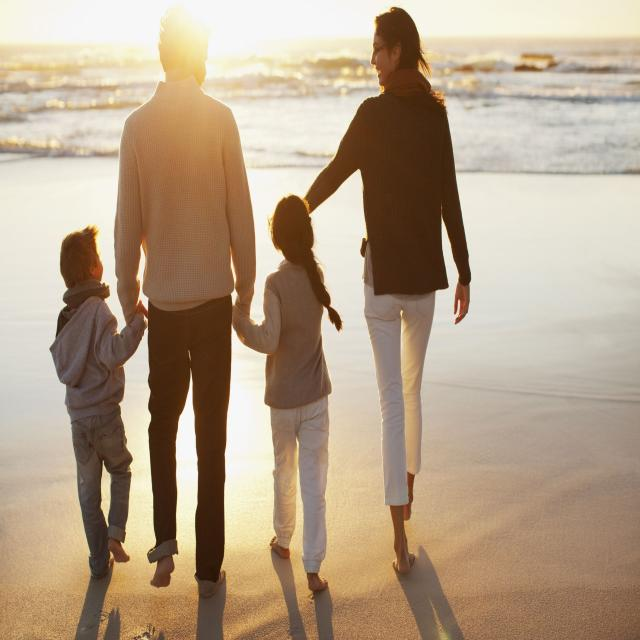adult: (301, 7, 470, 573), (114, 5, 254, 583)
child: (232, 192, 340, 596), (49, 226, 148, 583)
